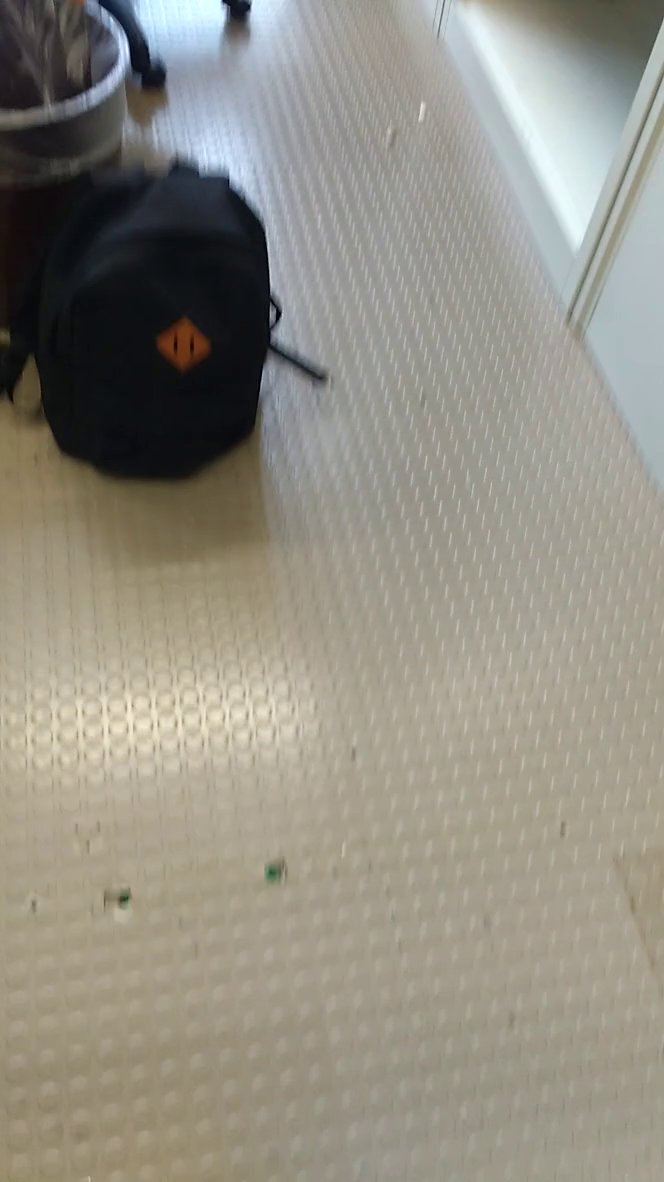bag: (7, 142, 288, 490)
